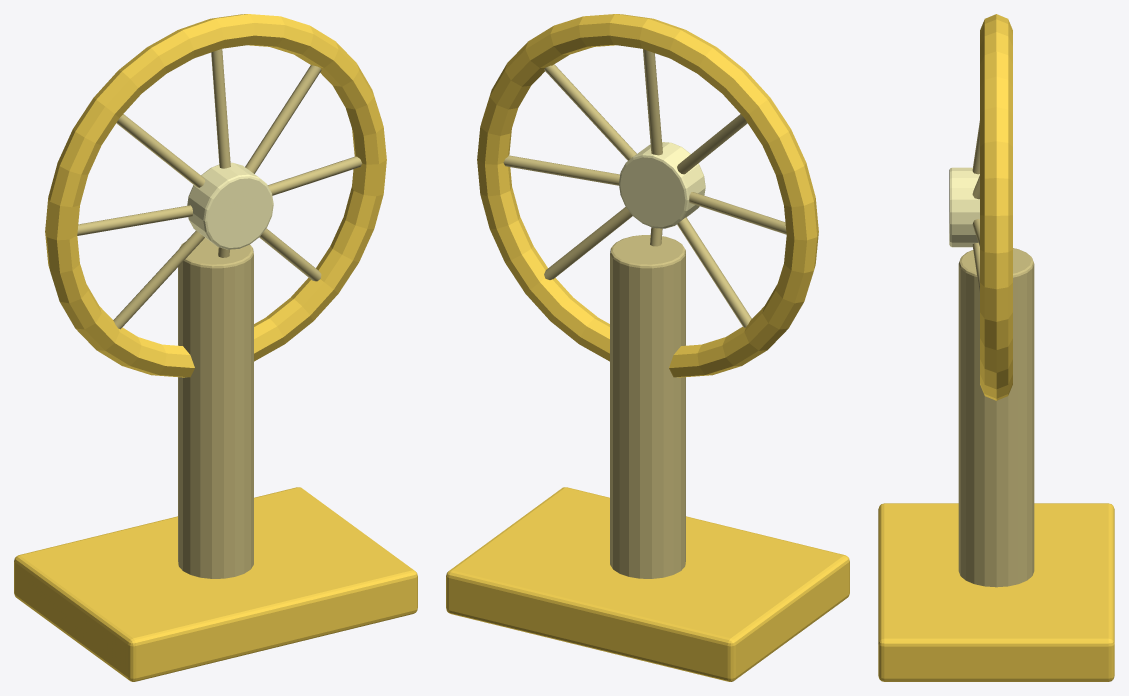
The model's file is SM_SolarDish.fbx.
The picture shows the model from 3 angles, left to right: view 1: azimuth 30°, elevation 25°; view 2: azimuth 150°, elevation 25°; view 3: azimuth 270°, elevation 25°; orthographic projection.
Visible parts, largest first — view 1: SM_SolarDish; view 2: SM_SolarDish; view 3: SM_SolarDish.
Boxes of the visible parts, x1=… form: SM_SolarDish: x1=14, y1=14, x2=417, y2=681; SM_SolarDish: x1=446, y1=14, x2=849, y2=681; SM_SolarDish: x1=878, y1=14, x2=1114, y2=681.
Size of the model in its own units: 164 by 100 by 272.
